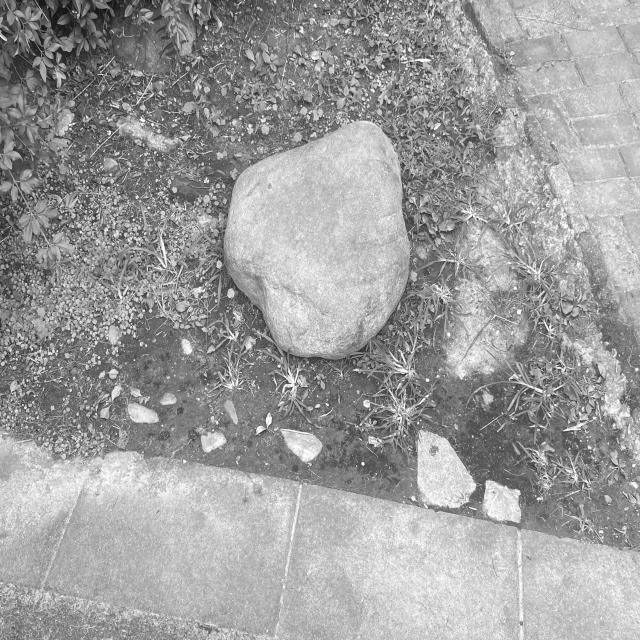Stone: (224, 121, 410, 358)
